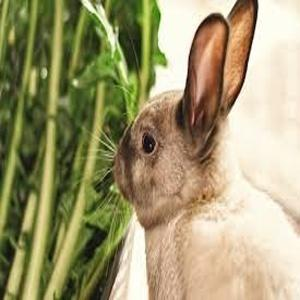rabbit: (112, 0, 300, 300)
